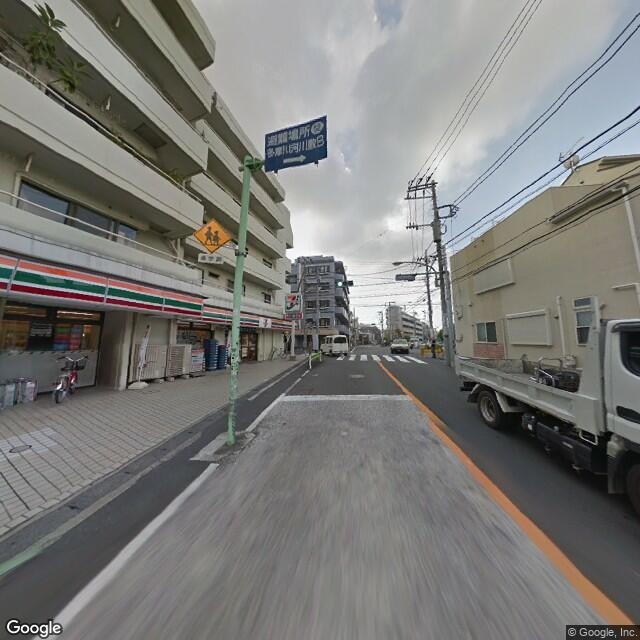7-eleven: (1, 250, 201, 319), (201, 304, 284, 333), (282, 288, 302, 314)
